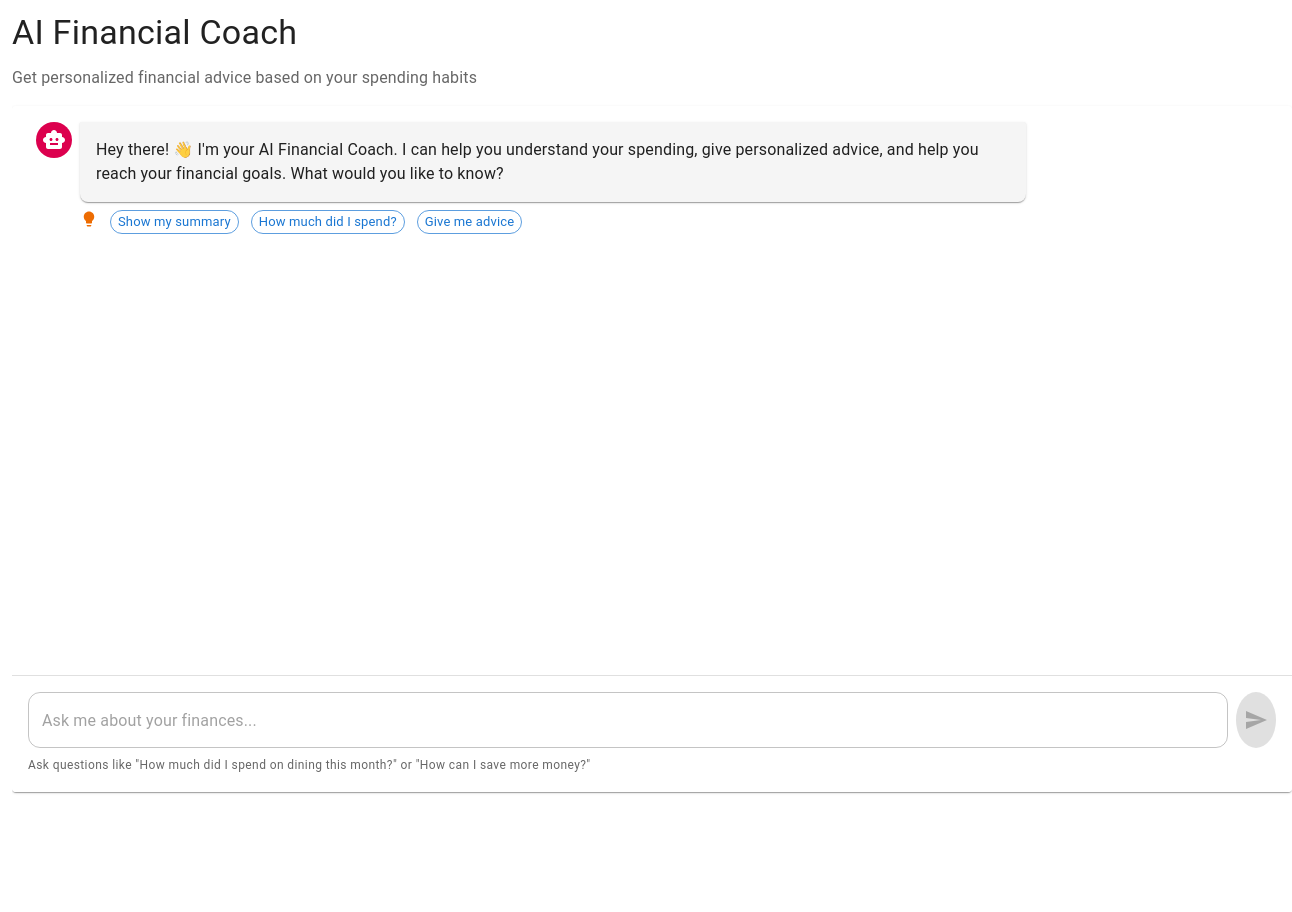
Test case: AICoach Component › handles API error gracefully
The width and height of the screenshot is (1292, 912).
Click on a suggestion to trigger an API call
Click the button "How much did I spend?": coordinates (328, 222) [251,210,405,234]
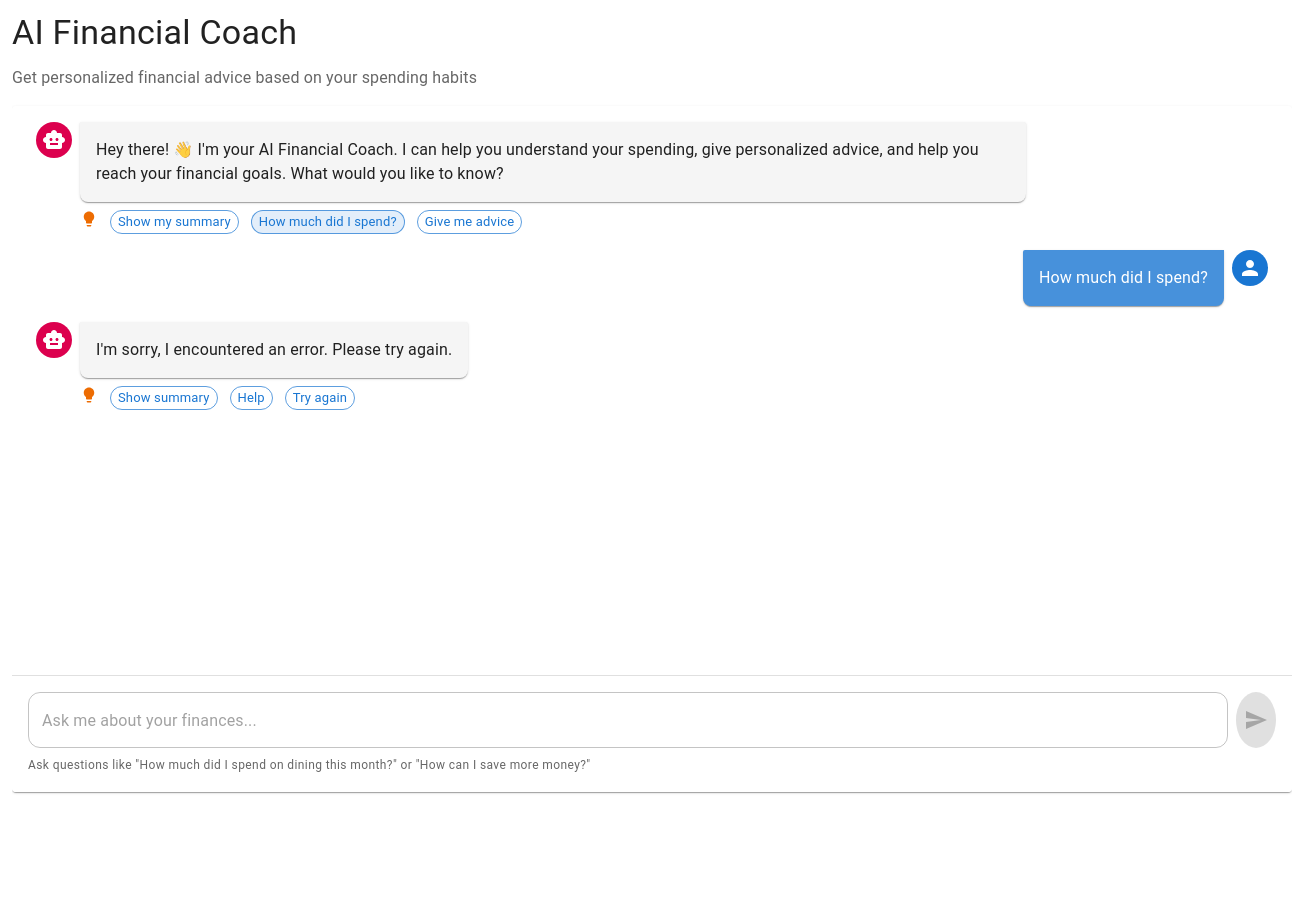
Check: the text "I'm sorry, I encountered an error. Please try again." is shown, box [96,338,452,362]
